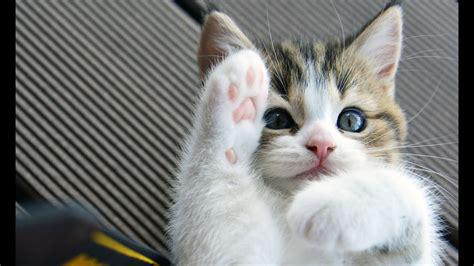cat: (170, 1, 441, 266)
